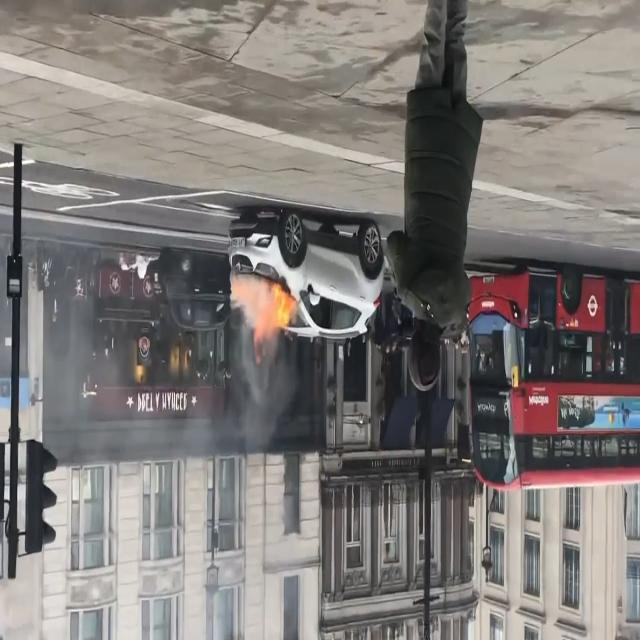fire: (224, 276, 300, 366)
